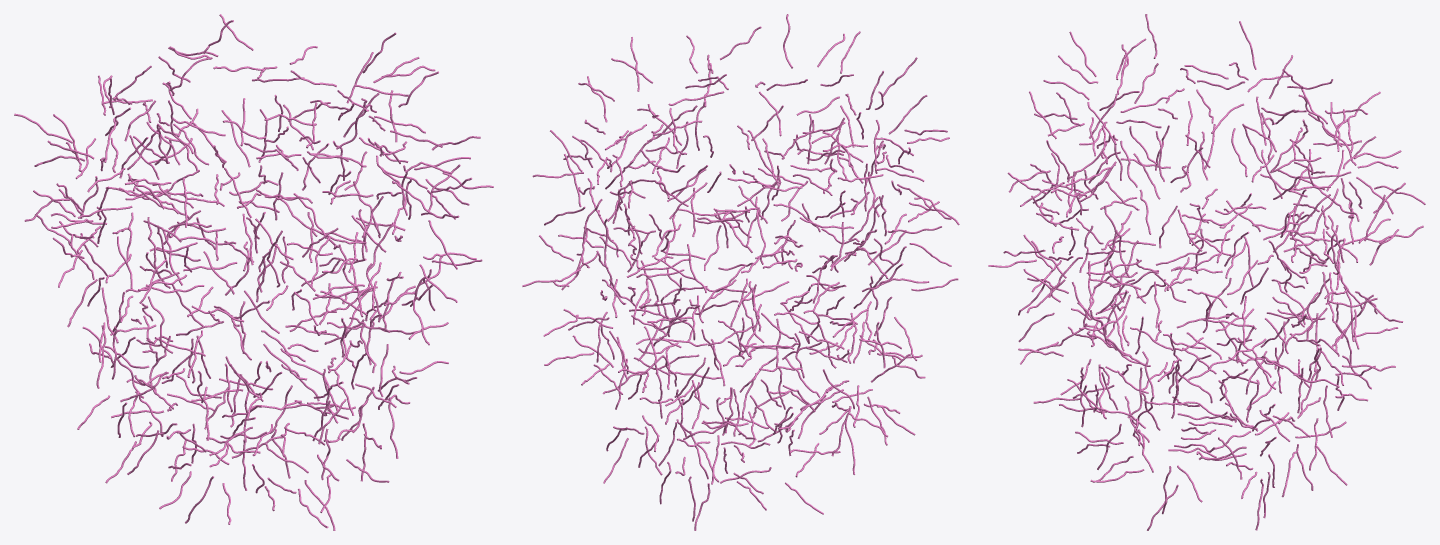
Rendered from l_owoc.fbx.
The picture shows the model from 3 angles, left to right: view 1: azimuth 30°, elevation 25°; view 2: azimuth 150°, elevation 25°; view 3: azimuth 270°, elevation 25°; orthographic projection. The views are drawn at different scales.
Parts seen in each view (by area): view 1: Cube; view 2: Cube; view 3: Cube.
Part boxes in pixels (x1,y1,x2,y2): Cube: [14, 14, 493, 530]; Cube: [522, 14, 959, 530]; Cube: [988, 14, 1425, 530].
Bounding box in the file's own units: 260 × 290 × 261.
